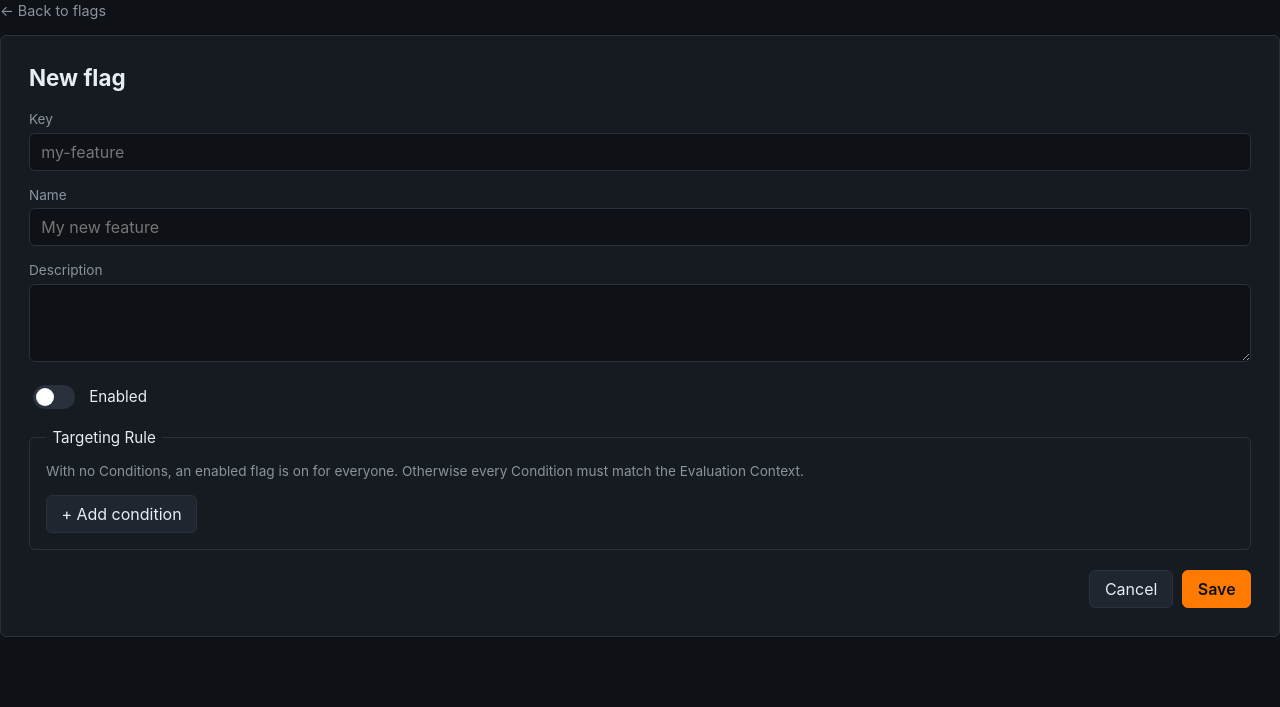
Test: FlagFormComponent › conditions editor › starts without Conditions and adds an IN row with an Attribute input and a values textarea
Step 1. Click the button with class "add-condition" → point(122, 514), box [46, 495, 197, 533]
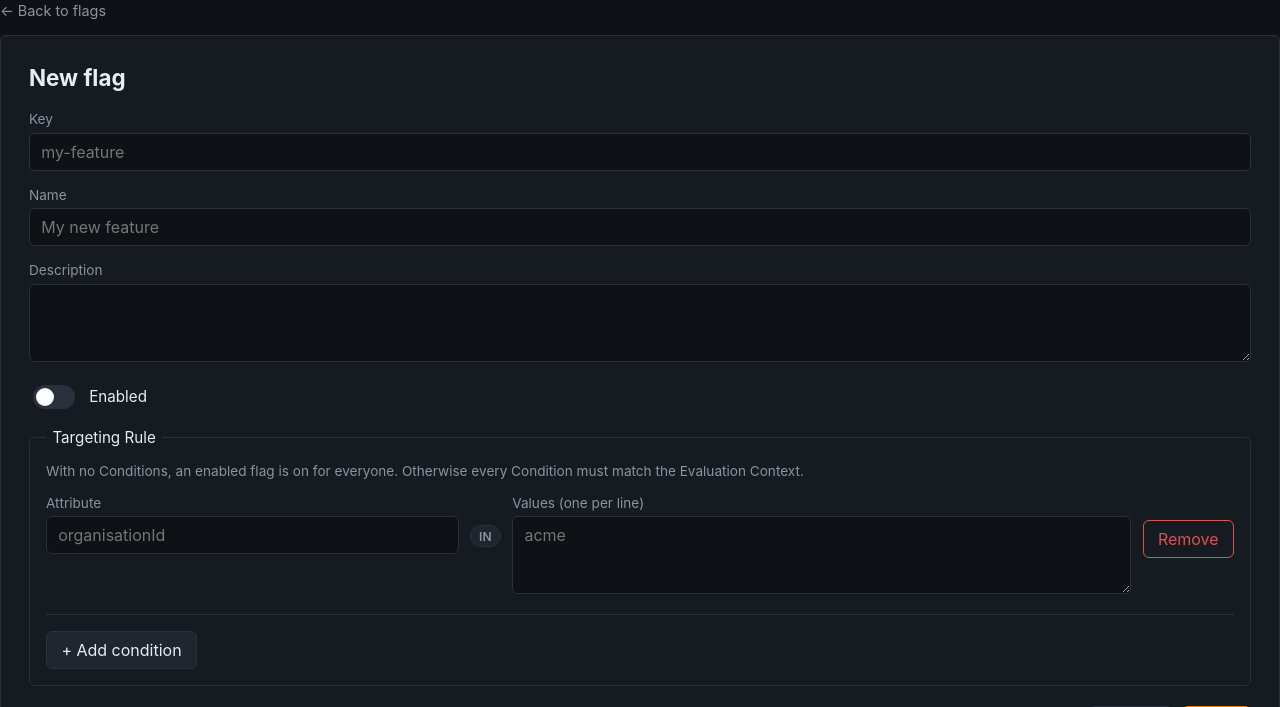
Expected: the field with class "condition-attribute" is shown, [46, 516, 459, 554]
Expected: the text box with class "condition-values" is shown, [512, 516, 1131, 594]
